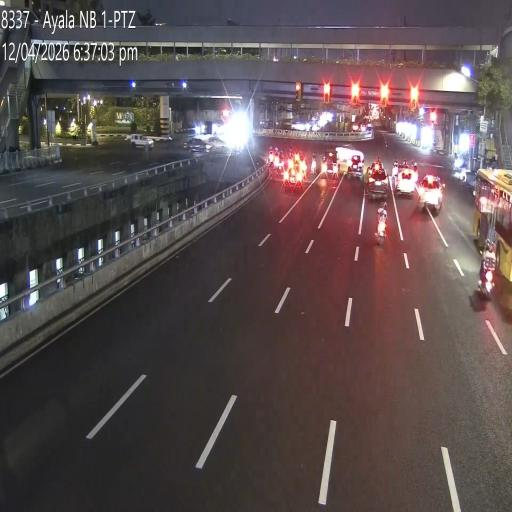Car: (415, 173, 444, 214), (369, 168, 388, 198), (395, 169, 414, 197), (285, 162, 304, 190), (323, 147, 340, 178), (347, 152, 365, 180), (183, 138, 208, 154), (128, 134, 154, 149), (206, 137, 227, 154), (369, 162, 384, 176)
Motor: (479, 234, 494, 300), (375, 206, 387, 246), (277, 150, 284, 178), (311, 150, 317, 174), (268, 145, 274, 169), (392, 157, 398, 179), (274, 146, 279, 170), (414, 161, 418, 182), (294, 149, 299, 165)
Not Accident: (368, 158, 389, 200), (393, 156, 414, 196), (286, 149, 304, 191), (268, 145, 285, 177)
